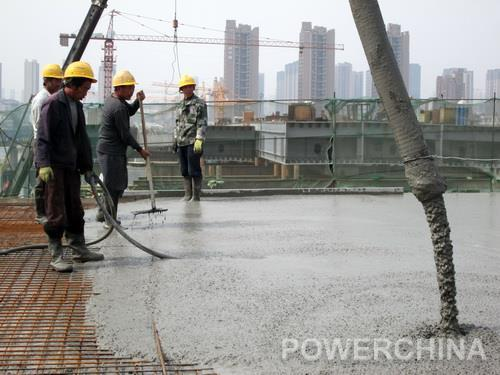boots: (49, 255, 73, 272), (72, 250, 104, 262), (103, 218, 121, 228)
gloves: (38, 166, 55, 184), (83, 169, 100, 184), (137, 146, 151, 159), (193, 138, 203, 155), (136, 90, 145, 101), (172, 142, 178, 154)
hard-hat: (64, 60, 98, 83), (112, 69, 139, 86), (40, 64, 64, 79), (177, 74, 196, 87)
person: (35, 60, 105, 272), (95, 68, 151, 228), (30, 63, 65, 224), (172, 74, 208, 201)
